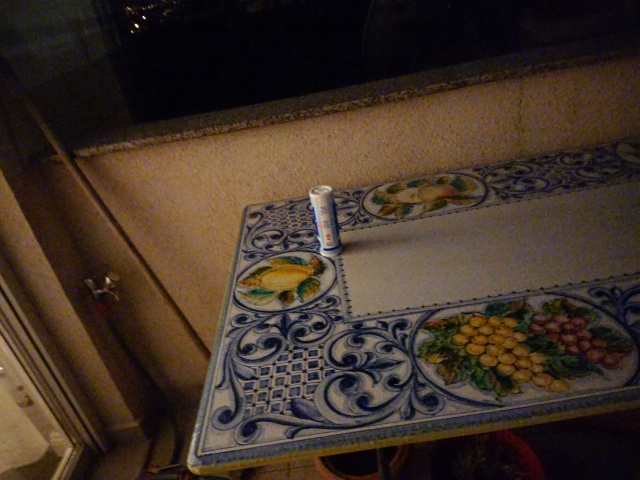Solana Pag Fine Sea Salt 250g: (306, 182, 345, 260)
